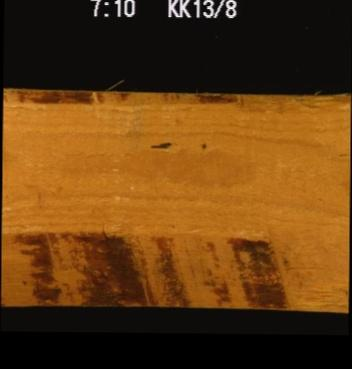small_knot: (196, 138, 208, 151)
wave: (0, 229, 348, 310), (4, 89, 252, 113)
